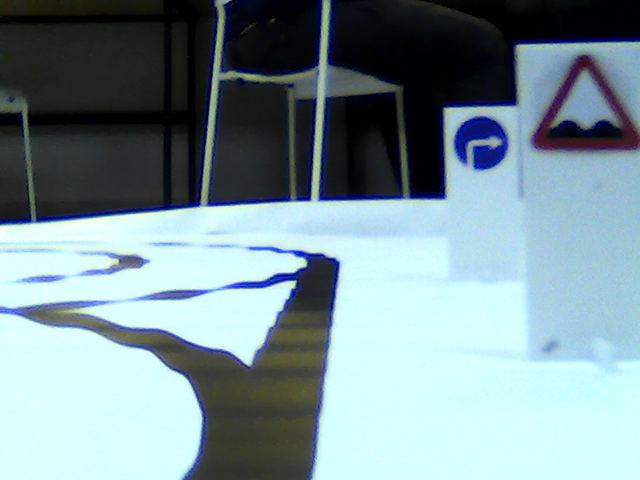Nerov: (529, 52, 637, 157)
Right: (453, 115, 509, 171)
